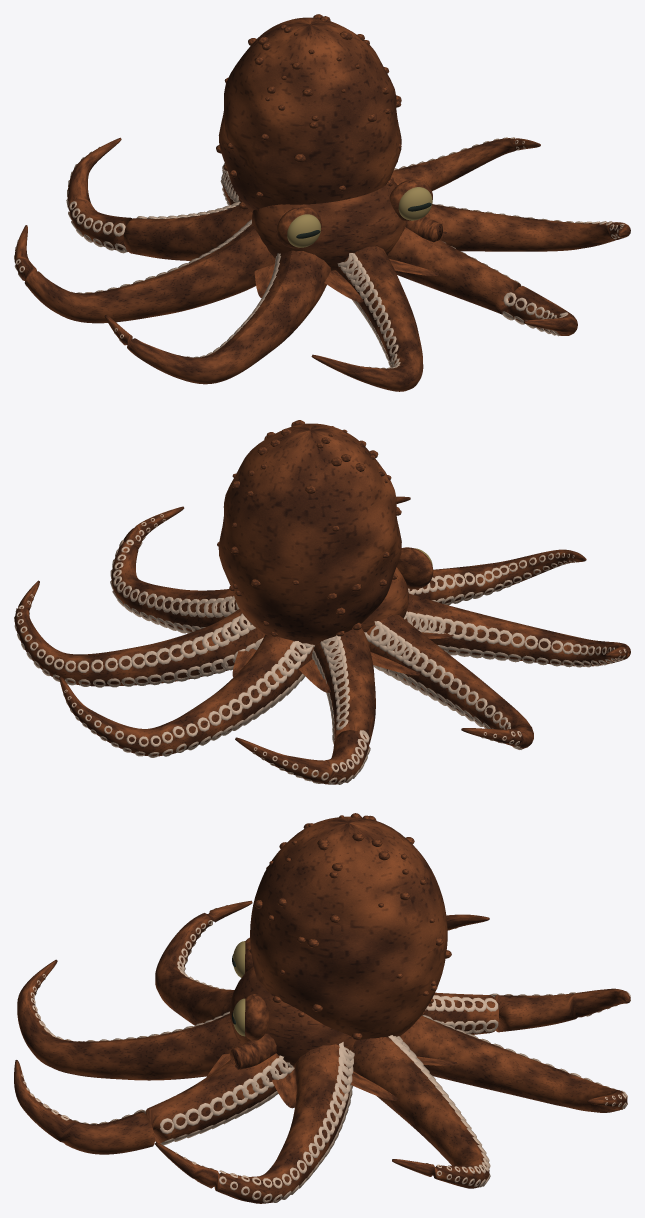
Rendered from octopus.glb.
3 views of the same model, one above another, from view 1: azimuth 30°, elevation 25°; view 2: azimuth 150°, elevation 25°; view 3: azimuth 270°, elevation 25° (orthographic). The views are drawn at different scales.
Parts seen in each view (by area): view 1: octopus_anatomy, Octopus arm.004, Octopus arm.003, Octopus arm.005, Octopus arm.001, Octopus arm.002, Octopus arm, Octopus arm.007; view 2: octopus_anatomy, Octopus arm.006, Octopus arm.007, Octopus arm.005, Octopus arm.004, Octopus arm.003, Octopus arm, Octopus arm.002; view 3: octopus_anatomy, Octopus arm.001, Octopus arm.002, Octopus arm, Octopus arm.007, Octopus arm.006, Octopus arm.005, Octopus arm.003.
Boxes of the visible parts, x1=… form: octopus_anatomy: x1=216, y1=14, x2=447, y2=302; Octopus arm.004: x1=14, y1=219, x2=275, y2=323; Octopus arm.003: x1=104, y1=250, x2=330, y2=384; Octopus arm.005: x1=66, y1=137, x2=252, y2=260; Octopus arm.001: x1=387, y1=227, x2=577, y2=336; Octopus arm.002: x1=311, y1=246, x2=423, y2=391; Octopus arm: x1=425, y1=203, x2=630, y2=251; Octopus arm.007: x1=391, y1=137, x2=540, y2=190; octopus_anatomy: x1=217, y1=420, x2=453, y2=692; Octopus arm.006: x1=59, y1=634, x2=314, y2=757; Octopus arm.007: x1=14, y1=580, x2=264, y2=687; Octopus arm.005: x1=235, y1=628, x2=375, y2=784; Octopus arm.004: x1=364, y1=615, x2=533, y2=749; Octopus arm.003: x1=403, y1=593, x2=630, y2=667; Octopus arm: x1=110, y1=506, x2=239, y2=633; Octopus arm.002: x1=408, y1=549, x2=586, y2=605; octopus_anatomy: x1=206, y1=813, x2=457, y2=1108; Octopus arm.001: x1=14, y1=1053, x2=294, y2=1154; Octopus arm.002: x1=17, y1=959, x2=241, y2=1080; Octopus arm: x1=155, y1=1042, x2=354, y2=1203; Octopus arm.007: x1=351, y1=1035, x2=490, y2=1188; Octopus arm.006: x1=400, y1=1015, x2=627, y2=1112; Octopus arm.005: x1=423, y1=988, x2=630, y2=1034; Octopus arm.003: x1=155, y1=900, x2=252, y2=1025.
Bounding box in the file's own units: 5.8 × 2.77 × 5.8.
Materials: 4 (1 with a texture image).
